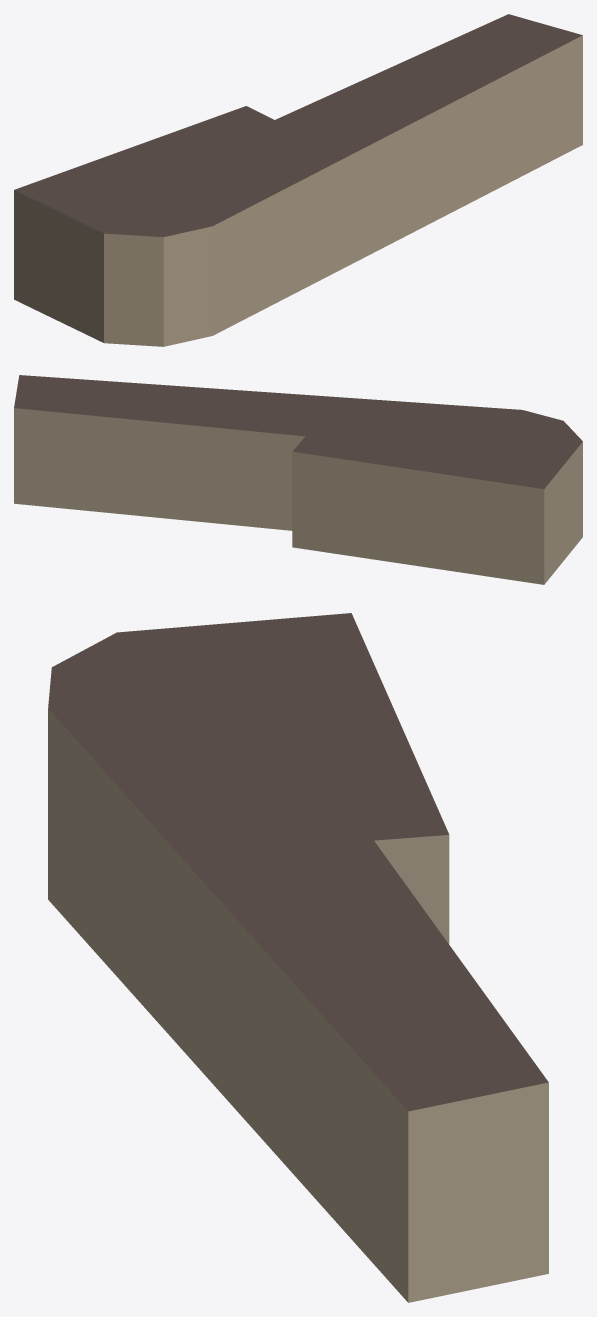
3 renders of one model, top to bottom at view 1: azimuth 30°, elevation 25°; view 2: azimuth 150°, elevation 25°; view 3: azimuth 270°, elevation 25°, orthographic. The views are drawn at different scales.
Visible parts, largest first — view 1: HP-w1367350999; view 2: HP-w1367350999; view 3: HP-w1367350999.
Part boxes in pixels (x1,y1,x2,y2): HP-w1367350999: [14, 14, 582, 346]; HP-w1367350999: [14, 375, 582, 584]; HP-w1367350999: [48, 613, 548, 1302].
Bounding box in the file's own units: 50.25 × 9 × 21.33.
